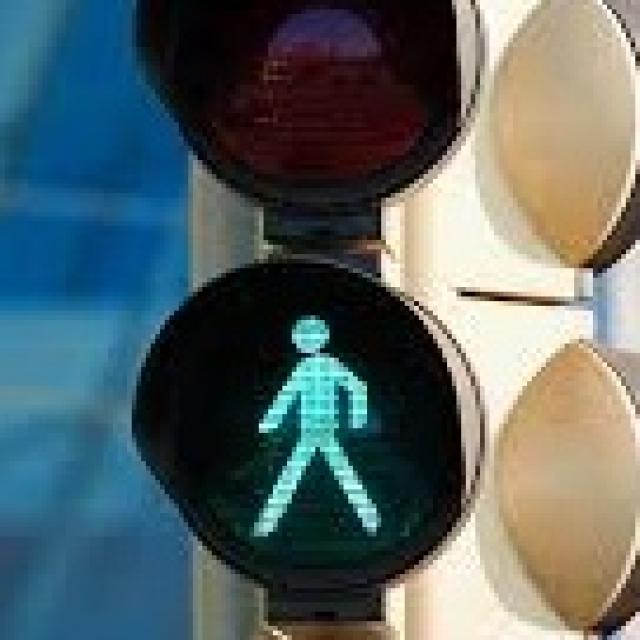green_light: (226, 292, 395, 550)
